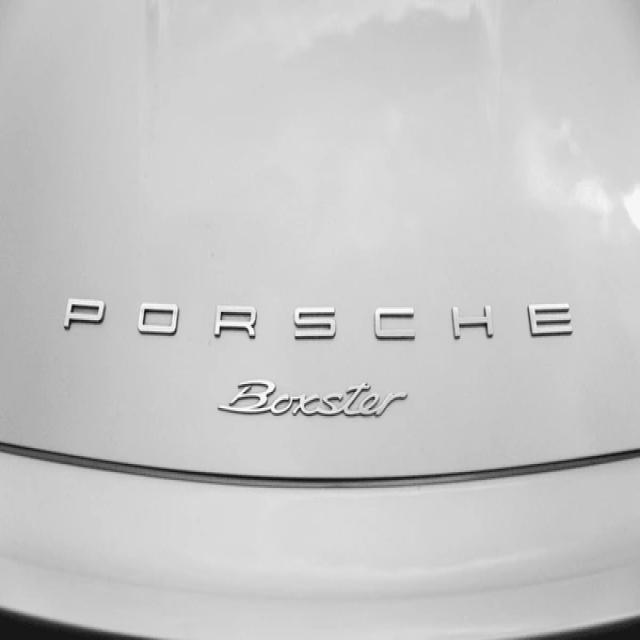porsche: (57, 290, 582, 354)
